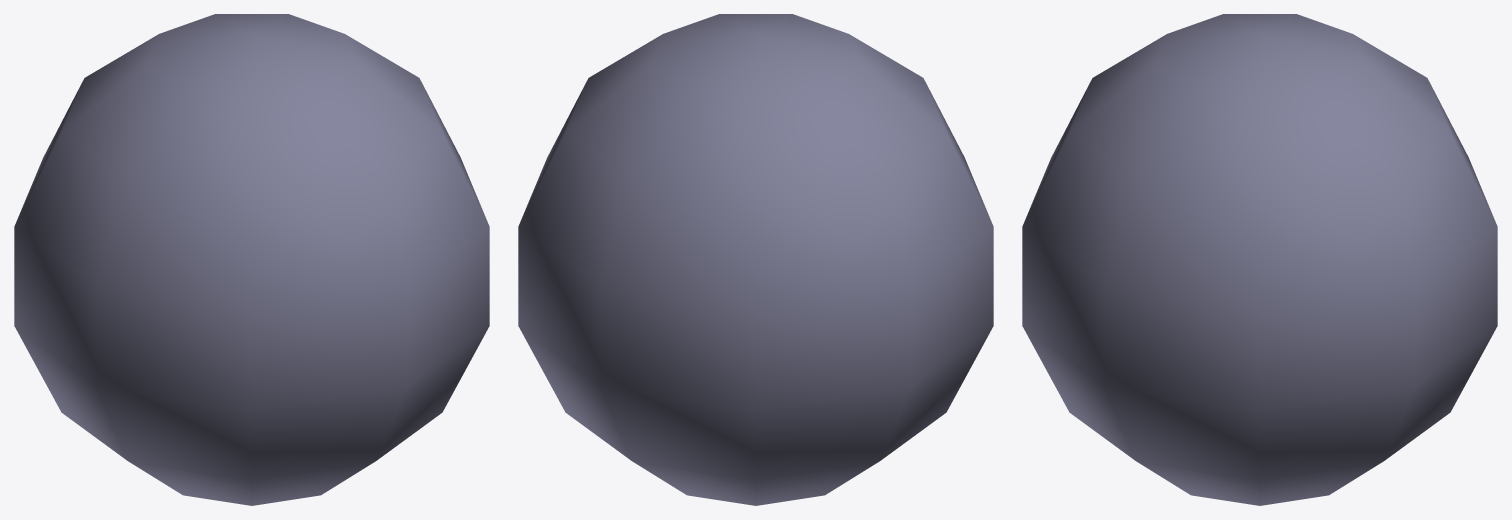
The model's file is rivetbug_stage1.obj.
3 renders of one model, left to right at view 1: azimuth 30°, elevation 25°; view 2: azimuth 150°, elevation 25°; view 3: azimuth 270°, elevation 25°, orthographic.
Bounding box in the file's own units: 1.23 × 1.3 × 1.25.
